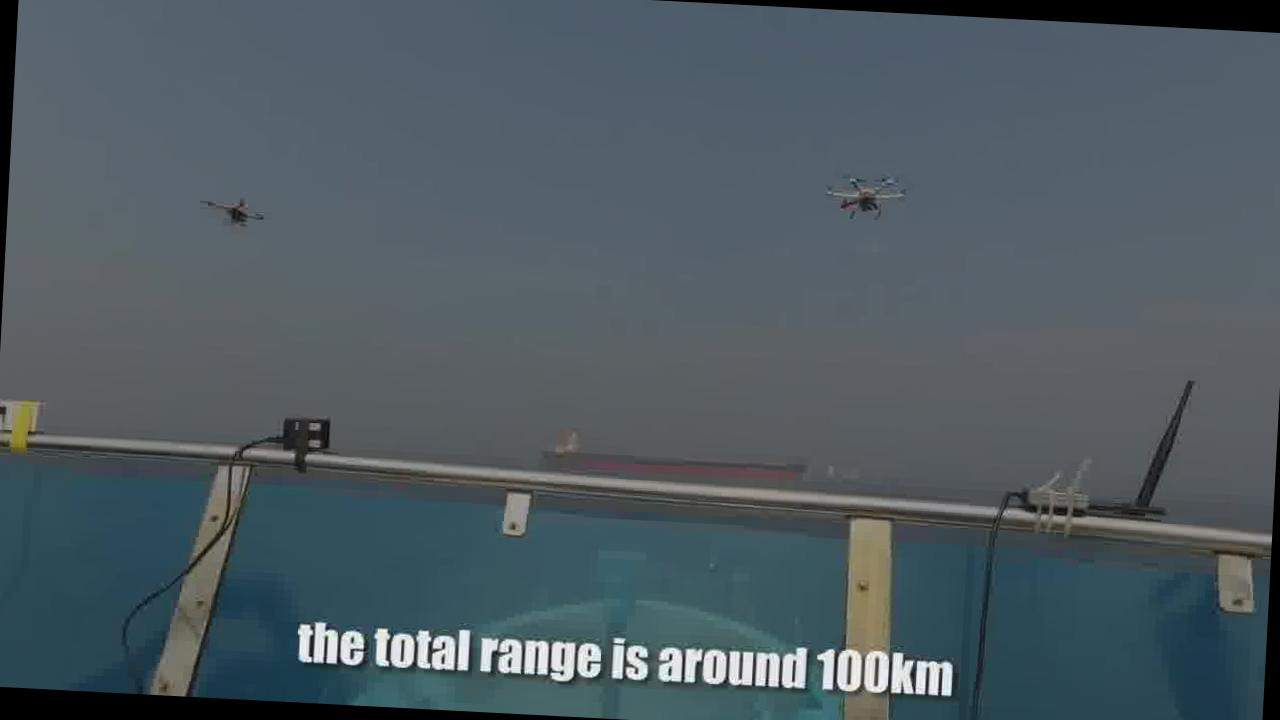drone: (818, 164, 908, 226), (198, 190, 268, 230)
